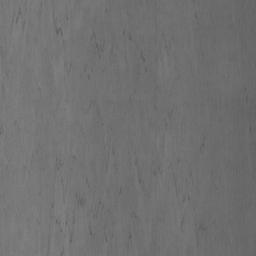Silk spot: (0, 0, 224, 256), (0, 120, 20, 144), (151, 218, 164, 249)
